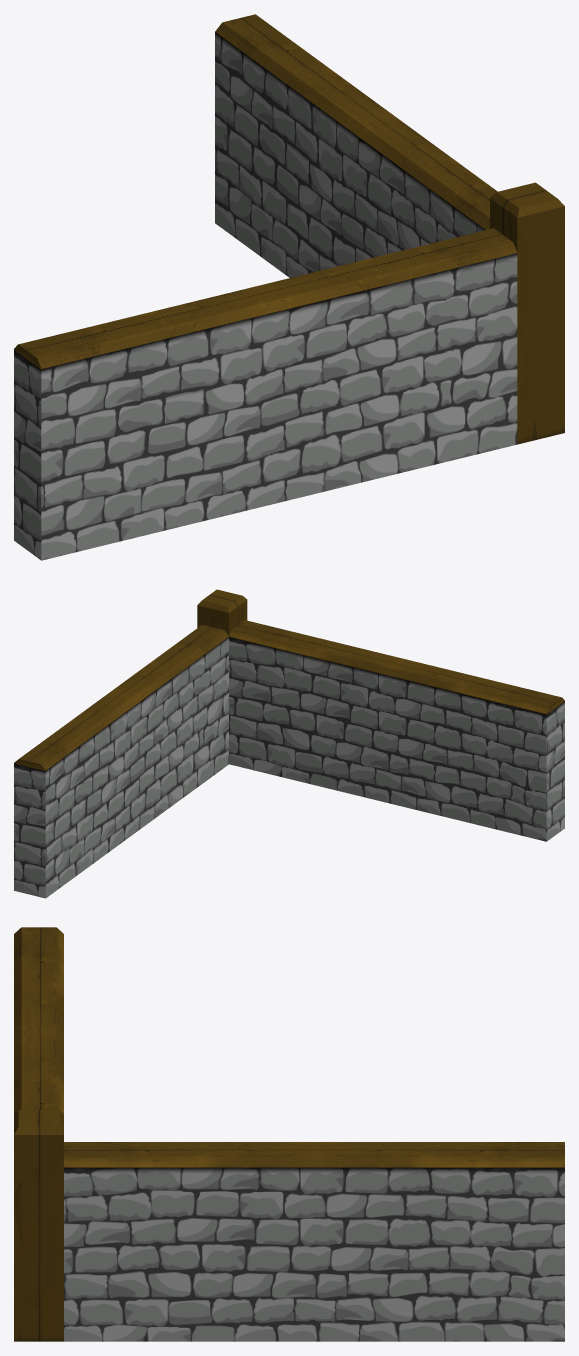
Rendered from mod_wall_corner_a (1).fbx.
3 views of the same model, one above another, from view 1: azimuth 30°, elevation 25°; view 2: azimuth 150°, elevation 25°; view 3: azimuth 270°, elevation 25° (orthographic). The views are drawn at different scales.
Visible parts, largest first — view 1: polySurface7, polySurface5; view 2: polySurface7, polySurface5; view 3: polySurface7, polySurface5.
Boxes of the visible parts, <box> form: polySurface7: <box>14,14,517,560</box>; polySurface5: <box>490,182,564,444</box>; polySurface7: <box>14,620,564,898</box>; polySurface5: <box>197,589,247,635</box>; polySurface7: <box>14,927,564,1341</box>; polySurface5: <box>14,1110,63,1341</box>.
Bounding box in the file's own units: 1430 × 609 × 1430.
2 materials, 2 textured.
